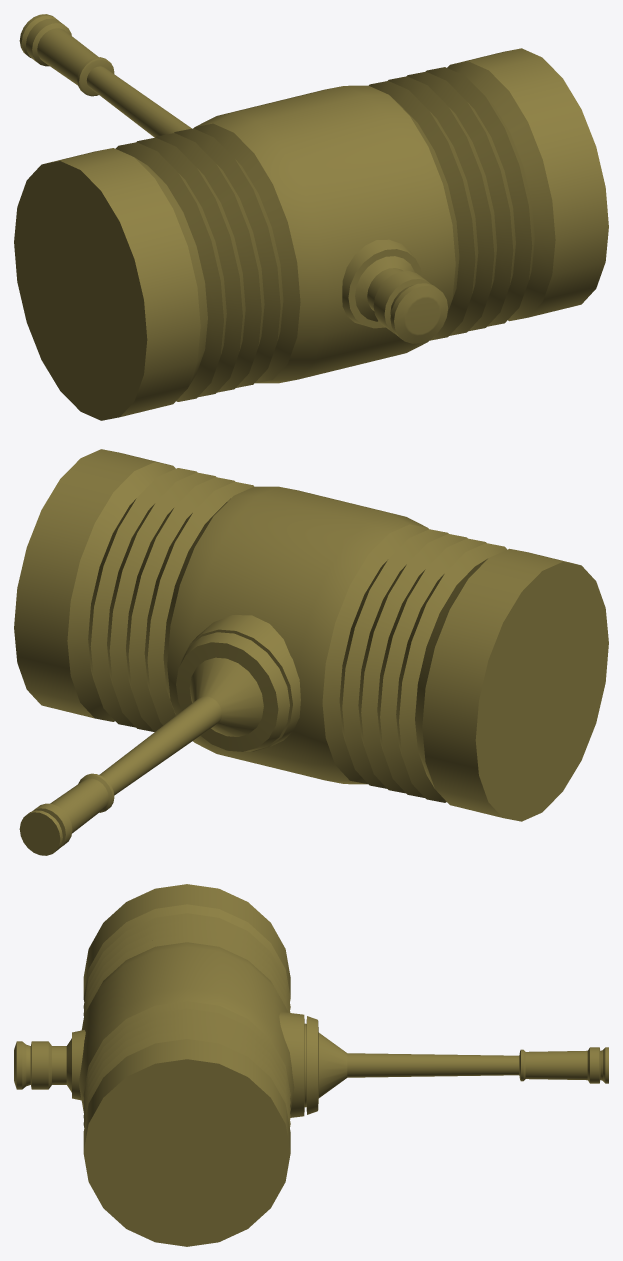
Rendered from hammer3.fbx.
3 views of the same model, one above another, from view 1: azimuth 30°, elevation 25°; view 2: azimuth 150°, elevation 25°; view 3: azimuth 270°, elevation 25° (orthographic). The views are drawn at different scales.
Visible parts, largest first — view 1: polySurface4; view 2: polySurface4; view 3: polySurface4.
Boxes of the visible parts, x1,y1,x2,y2 form: polySurface4: (14,14,608,420); polySurface4: (14,449,608,855); polySurface4: (14,884,608,1246).
Size of the model in its own units: 4 by 2.09 by 5.74.
